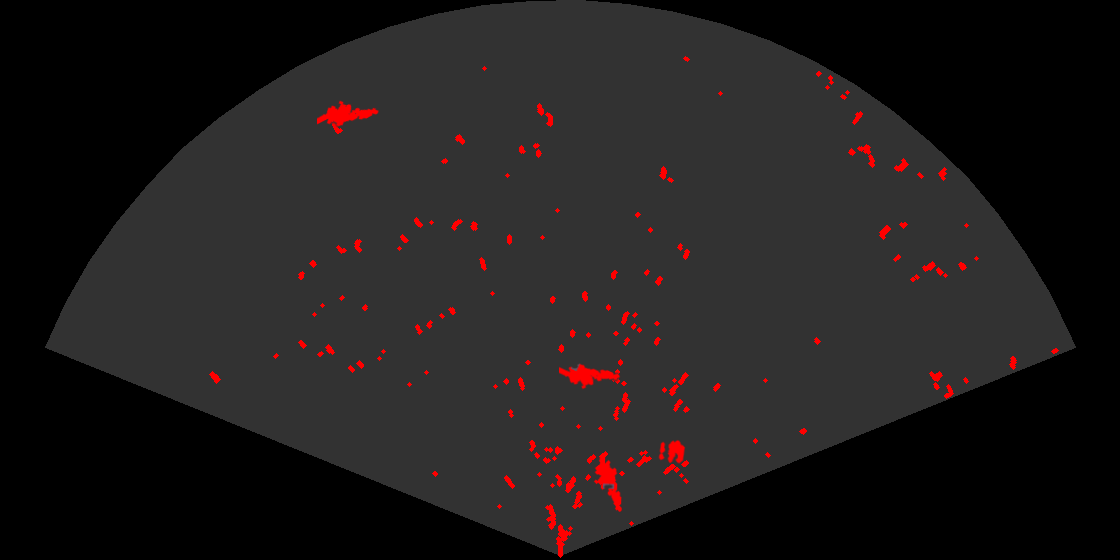ball: (657, 438, 687, 466)
frogman: (317, 99, 380, 128), (559, 362, 622, 391), (592, 457, 623, 512)
